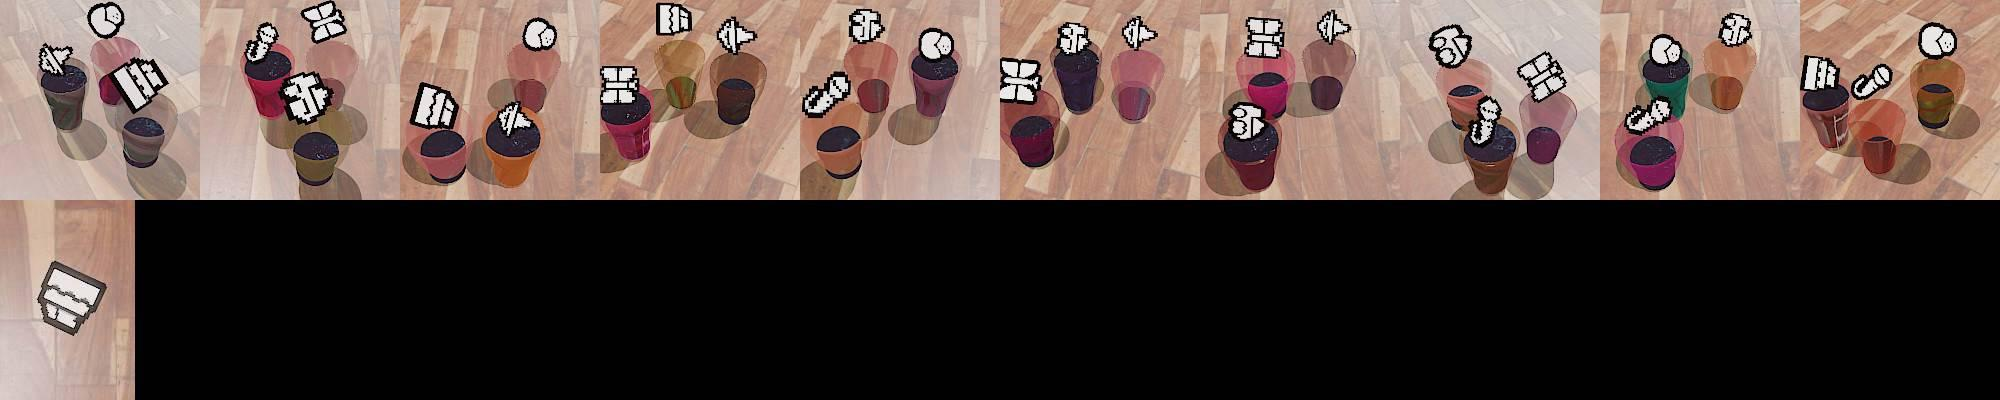icon: (36, 260, 108, 338), (107, 56, 170, 116), (281, 70, 333, 125), (1517, 48, 1568, 101), (409, 82, 459, 131), (801, 70, 851, 117), (1427, 23, 1473, 70), (1624, 93, 1675, 134), (1466, 94, 1505, 146), (301, 0, 348, 43), (999, 57, 1042, 104), (1244, 15, 1286, 61), (599, 65, 643, 108), (716, 14, 758, 56), (1800, 54, 1841, 93), (1228, 101, 1267, 141), (244, 22, 281, 64), (1917, 22, 1958, 59), (1852, 62, 1894, 98), (87, 3, 125, 39), (496, 102, 533, 140), (1121, 13, 1158, 50), (656, 3, 694, 38), (917, 27, 957, 61), (1056, 19, 1092, 56), (1315, 9, 1351, 46), (848, 8, 884, 45), (522, 17, 559, 52), (1718, 13, 1753, 48), (1648, 34, 1685, 68), (38, 45, 73, 78)
